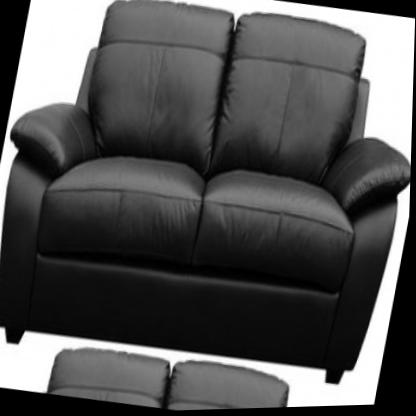Sofa: (0, 0, 416, 406)
